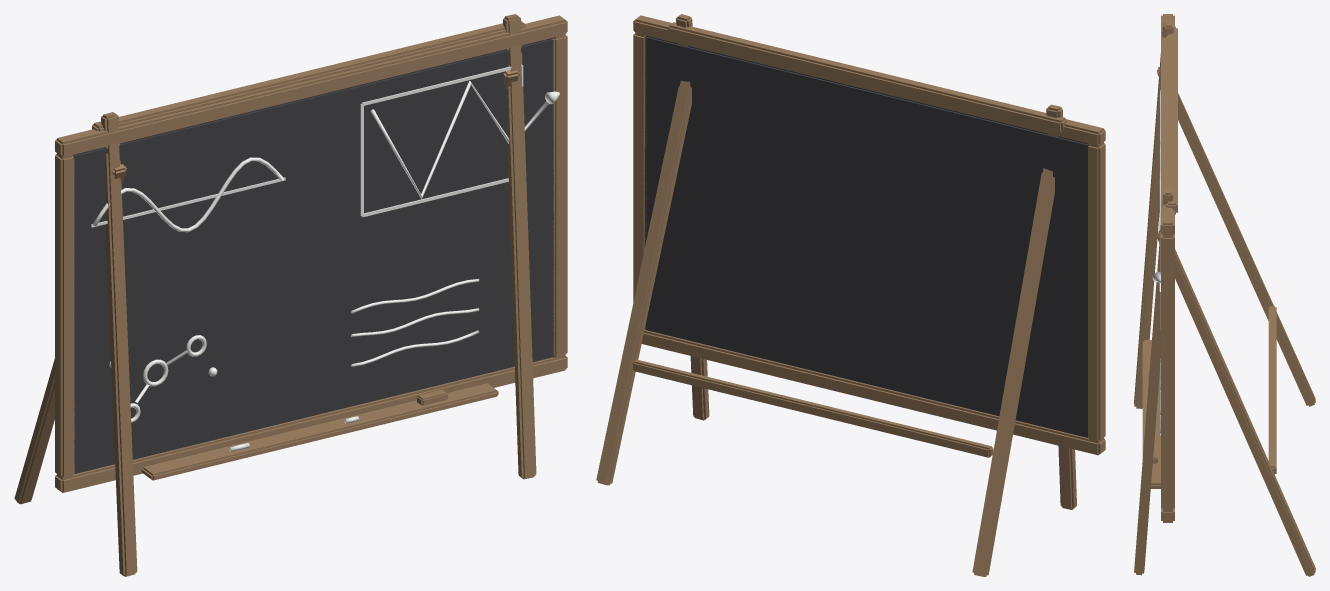
Rendered from chalkboard.glb.
The picture shows the model from 3 angles, left to right: view 1: azimuth 30°, elevation 25°; view 2: azimuth 150°, elevation 25°; view 3: azimuth 270°, elevation 25°; orthographic projection. The views are drawn at different scales.
Parts seen in each view (by area): view 1: Slate, FrameT, LegF1, LegF-1, FrameL, FrameB, Tray, FrameR, HingeBar, LegB-1, BoxRay, WaveCurve; view 2: Slate, LegB-1, LegB1, FrameB, HingeBar, FrameL, Brace, FrameT, FrameR, LegF-1, LegF1; view 3: LegB1, FrameR, LegB-1, LegF1, LegF-1, HingeBar, Brace, FrameT, Tray.
Boxes of the visible parts, x1=… form: Slate: x1=73, y1=37, x2=554, y2=473; FrameT: x1=55, y1=15, x2=567, y2=157; LegF1: x1=503, y1=14, x2=536, y2=479; LegF-1: x1=101, y1=112, x2=137, y2=576; FrameL: x1=55, y1=153, x2=74, y2=477; FrameB: x1=55, y1=355, x2=567, y2=492; Tray: x1=141, y1=383, x2=498, y2=480; FrameR: x1=552, y1=34, x2=567, y2=357; HingeBar: x1=92, y1=21, x2=525, y2=131; LegB-1: x1=14, y1=164, x2=126, y2=504; BoxRay: x1=370, y1=80, x2=548, y2=198; WaveCurve: x1=93, y1=157, x2=283, y2=232; Slate: x1=644, y1=36, x2=1088, y2=437; LegB-1: x1=972, y1=168, x2=1054, y2=576; LegB1: x1=596, y1=81, x2=691, y2=485; FrameB: x1=641, y1=330, x2=1105, y2=455; HingeBar: x1=667, y1=22, x2=1067, y2=132; FrameL: x1=1087, y1=142, x2=1105, y2=441; Brace: x1=633, y1=359, x2=993, y2=457; FrameT: x1=633, y1=15, x2=1105, y2=145; FrameR: x1=633, y1=33, x2=646, y2=330; LegF-1: x1=1046, y1=104, x2=1076, y2=509; LegF1: x1=676, y1=14, x2=709, y2=420; LegB1: x1=1157, y1=230, x2=1315, y2=576; FrameR: x1=1161, y1=234, x2=1174, y2=509; LegB-1: x1=1157, y1=67, x2=1315, y2=406; LegF1: x1=1134, y1=188, x2=1173, y2=575; LegF-1: x1=1134, y1=21, x2=1173, y2=408; HingeBar: x1=1166, y1=26, x2=1177, y2=214; Brace: x1=1268, y1=306, x2=1276, y2=474; FrameT: x1=1161, y1=14, x2=1174, y2=236; Tray: x1=1142, y1=340, x2=1160, y2=488.
Size of the model in its own units: 2.48 by 2.1 by 0.9035.
